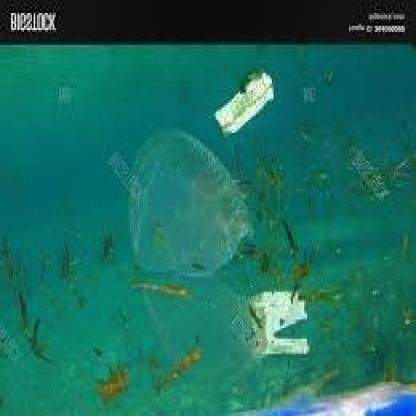misc: (247, 283, 314, 371), (210, 69, 278, 137)
pbag: (124, 122, 262, 279)
